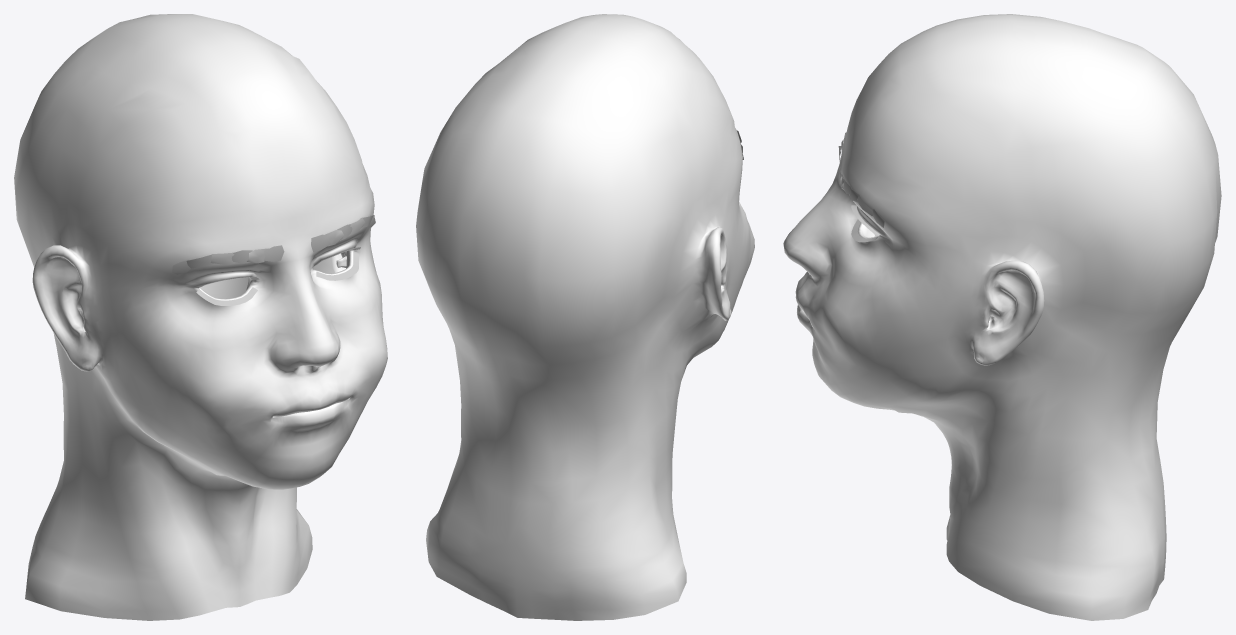
Rendered from cheekPuff.obj.
3 renders of one model, left to right at view 1: azimuth 30°, elevation 25°; view 2: azimuth 150°, elevation 25°; view 3: azimuth 270°, elevation 25°, orthographic. The views are drawn at different scales.
Visible parts, largest first — view 1: FaceMesh_Plane.003; view 2: FaceMesh_Plane.003; view 3: FaceMesh_Plane.003.
Part boxes in pixels (x1,y1,x2,y2): FaceMesh_Plane.003: (14,14,387,620); FaceMesh_Plane.003: (416,14,754,620); FaceMesh_Plane.003: (783,14,1221,620).
Size of the model in its own units: 1.54 by 2.71 by 1.94.
5 materials, 1 textured.
